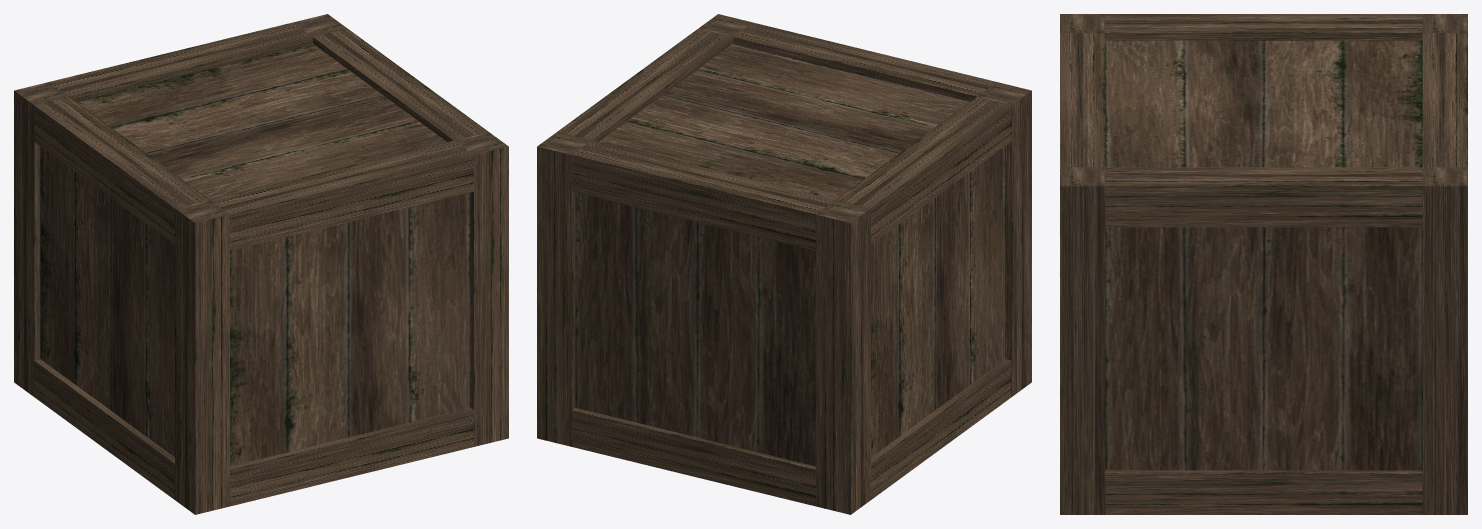
Rendered from wood-box.glb.
3 renders of one model, left to right at view 1: azimuth 30°, elevation 25°; view 2: azimuth 150°, elevation 25°; view 3: azimuth 270°, elevation 25°, orthographic. The views are drawn at different scales.
Parts seen in each view (by area): view 1: WoodBox; view 2: WoodBox; view 3: WoodBox.
Boxes of the visible parts, x1,y1,x2,y2 form: WoodBox: (14, 14, 508, 514); WoodBox: (537, 14, 1031, 514); WoodBox: (1060, 14, 1467, 514).
Size of the model in its own units: 0.8361 by 0.7432 by 0.8361.
1 material, 1 textured.
